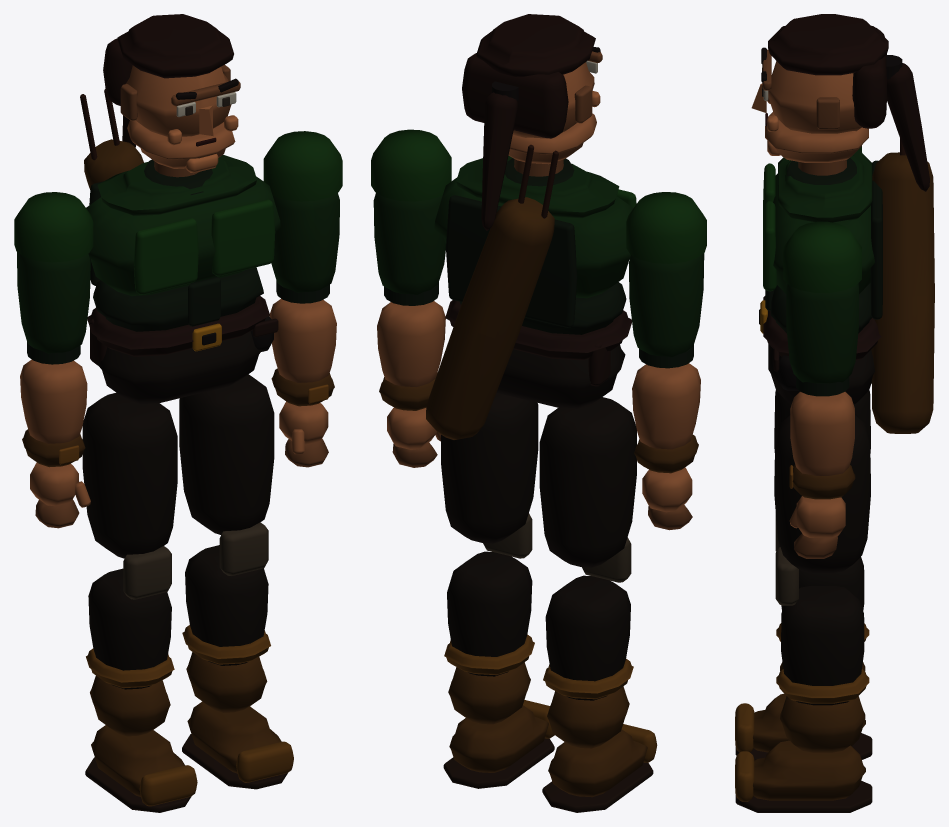
File: PatrulheiroSelvagemBase.fbx
3 views of the same model, side by side, from view 1: azimuth 30°, elevation 25°; view 2: azimuth 150°, elevation 25°; view 3: azimuth 270°, elevation 25° (orthographic). The views are drawn at different scales.
Parts seen in each view (by area): view 1: Body, LegR, LegL, ArmR, ArmL, Head; view 2: Body, LegR, LegL, ArmR, ArmL, Head; view 3: Body, LegL, ArmL, Head, LegR.
Part boxes in pixels (x1=…): Body: x1=80, y1=89, x2=280, y2=404; LegR: x1=82, y1=392, x2=197, y2=812; LegL: x1=179, y1=374, x2=293, y2=789; ArmR: x1=14, y1=192, x2=93, y2=528; ArmL: x1=263, y1=131, x2=342, y2=467; Head: x1=103, y1=14, x2=240, y2=177; Body: x1=426, y1=144, x2=636, y2=439; LegR: x1=539, y1=397, x2=657, y2=812; LegL: x1=441, y1=392, x2=554, y2=788; ArmR: x1=626, y1=192, x2=706, y2=530; ArmL: x1=371, y1=129, x2=451, y2=467; Head: x1=462, y1=14, x2=602, y2=230; Body: x1=759, y1=138, x2=934, y2=433; LegL: x1=735, y1=414, x2=872, y2=812; ArmL: x1=783, y1=221, x2=861, y2=558; Head: x1=751, y1=14, x2=929, y2=191; LegR: x1=735, y1=390, x2=872, y2=760.
Size of the model in its own units: 0.7867 by 1.74 by 0.4243.
